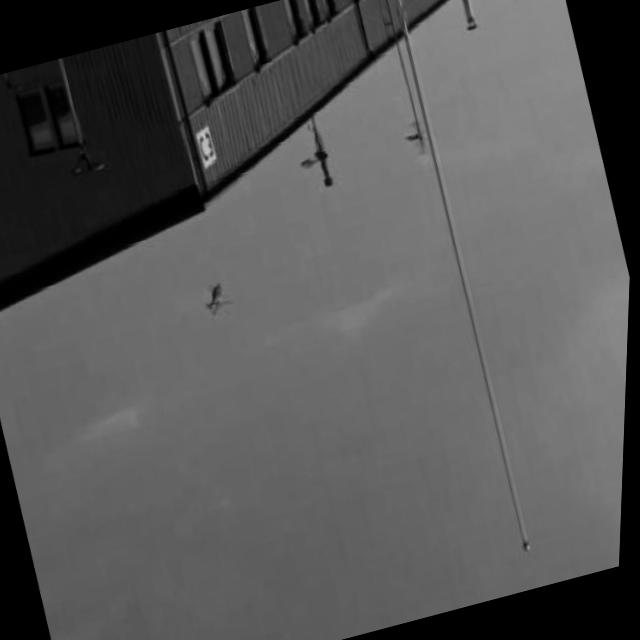helikopter: (195, 269, 241, 324)
